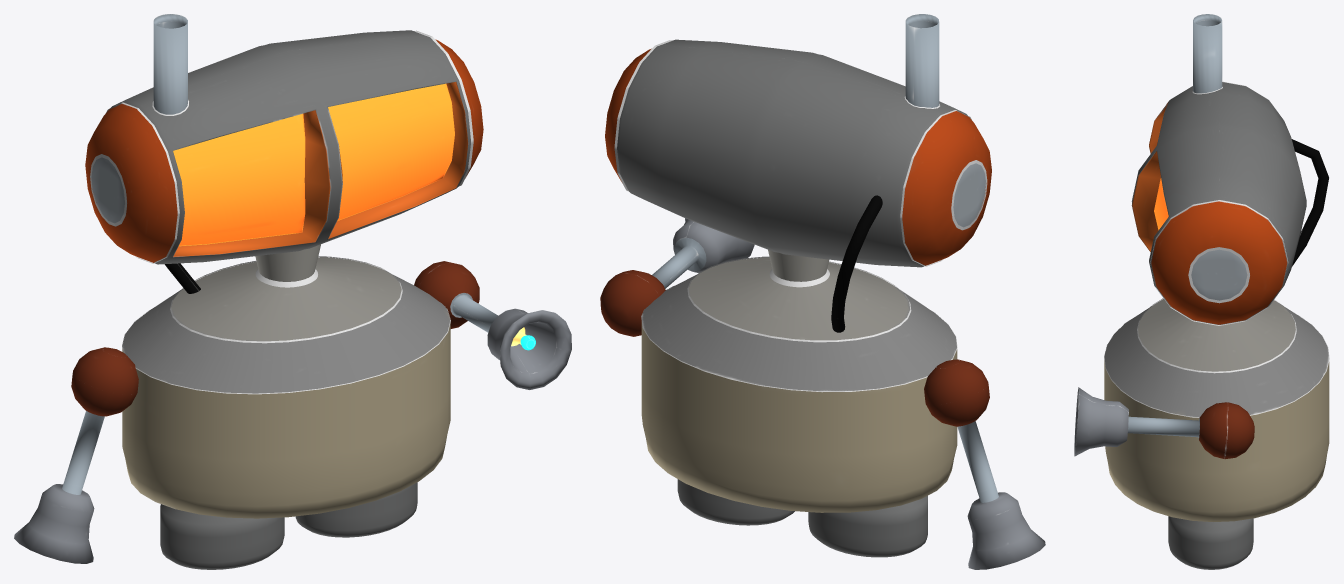
The model's file is Enemy19.blend.fbx.
3 renders of one model, left to right at view 1: azimuth 30°, elevation 25°; view 2: azimuth 150°, elevation 25°; view 3: azimuth 270°, elevation 25°, orthographic. The views are drawn at different scales.
Visible parts, largest first — view 1: Body.003, Body.001, Body.009, Body.010, Body.006, Body.007, Body.008, Weld_1_decal; view 2: Body.003, Body.001, Body.009, Body.010, Body.006, Body.008, Body.007, Body.005, Weld_1_decal; view 3: Body.003, Body.001, Body.010, Body.007, Body.008, Body.005, Weld_1_decal.008, Weld_1_decal.003, Weld_1_decal.
Part boxes in pixels (<box>): Body.003: <box>122,244,450,518</box>; Body.001: <box>85,30,483,264</box>; Body.009: <box>14,347,138,563</box>; Body.010: <box>414,261,571,389</box>; Body.006: <box>160,504,284,569</box>; Body.007: <box>295,482,417,537</box>; Body.008: <box>153,14,187,114</box>; Weld_1_decal: <box>170,256,402,343</box>; Body.003: <box>641,249,957,512</box>; Body.001: <box>605,39,991,267</box>; Body.009: <box>924,359,1045,569</box>; Body.010: <box>600,218,754,336</box>; Body.006: <box>808,495,927,557</box>; Body.008: <box>905,14,939,107</box>; Body.007: <box>677,479,794,525</box>; Body.005: <box>831,195,882,332</box>; Weld_1_decal: <box>687,256,911,342</box>; Body.003: <box>1104,299,1329,521</box>; Body.001: <box>1131,82,1306,324</box>; Body.010: <box>1074,387,1254,459</box>; Body.007: <box>1168,516,1253,569</box>; Body.008: <box>1193,14,1222,93</box>; Body.005: <box>1291,139,1328,266</box>; Weld_1_decal.008: <box>1188,247,1249,303</box>; Weld_1_decal.003: <box>1150,200,1288,325</box>; Weld_1_decal: <box>1137,298,1296,373</box>.
Bounding box in the file's own units: 570 × 644 × 329.
